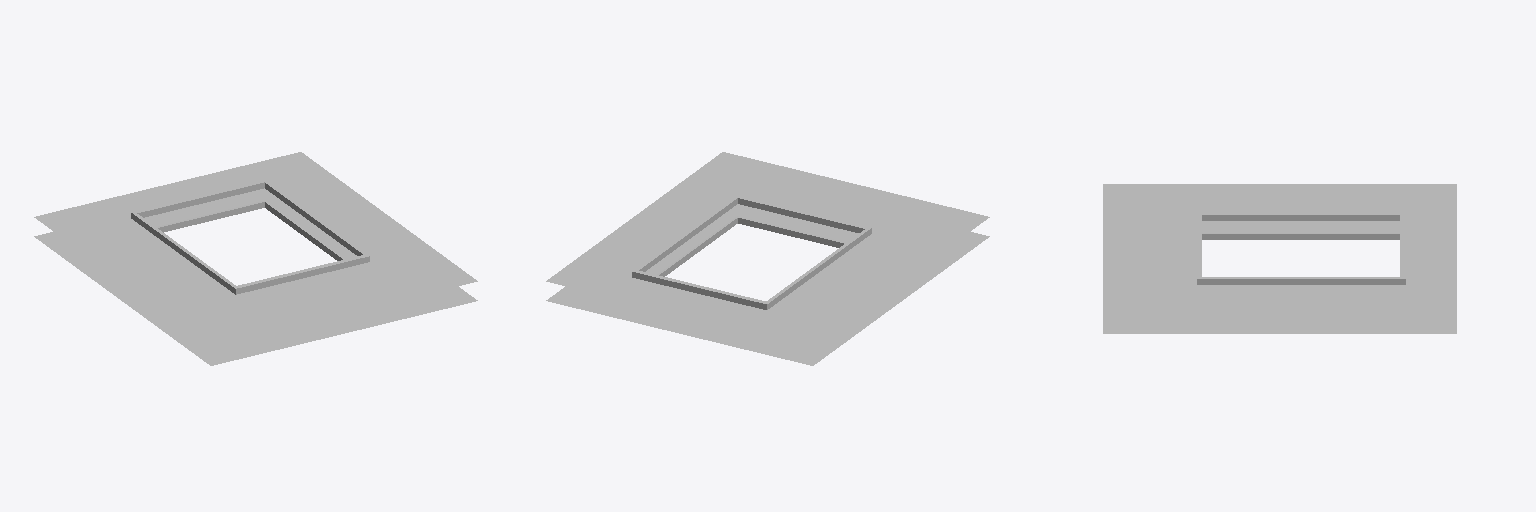
File: piso23.obj
3 renders of one model, left to right at view 1: azimuth 30°, elevation 25°; view 2: azimuth 150°, elevation 25°; view 3: azimuth 270°, elevation 25°, orthographic.
Parts seen in each view (by area): view 1: pCube102, pCube98; view 2: pCube102, pCube98; view 3: pCube102, pCube98.
Boxes of the visible parts, <box> form: pCube102: <box>34,152,477,346</box>; pCube98: <box>34,188,477,365</box>; pCube102: <box>546,152,989,346</box>; pCube98: <box>546,204,989,365</box>; pCube102: <box>1103,184,1456,313</box>; pCube98: <box>1103,221,1456,333</box>.
Size of the model in its own units: 141 by 12.78 by 161.